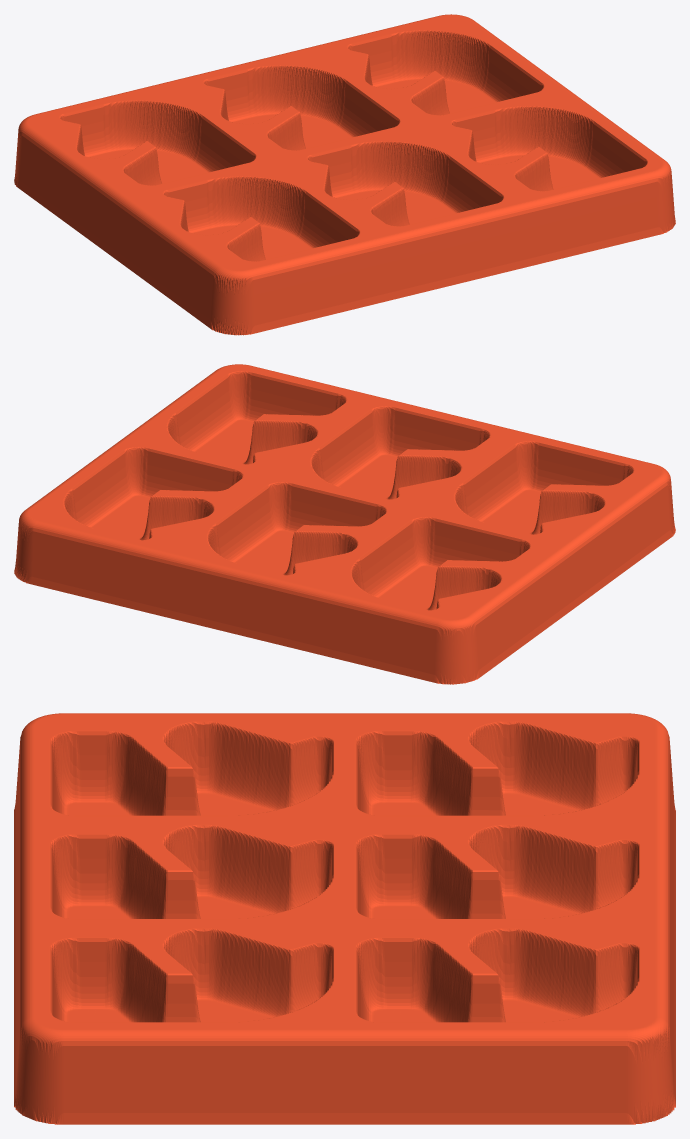
The model's file is mold.glb.
The picture shows the model from 3 angles, top to bottom: view 1: azimuth 30°, elevation 25°; view 2: azimuth 150°, elevation 25°; view 3: azimuth 270°, elevation 25°; orthographic projection. The views are drawn at different scales.
Parts seen in each view (by area): view 1: geometry_0; view 2: geometry_0; view 3: geometry_0.
Boxes of the visible parts, <box> form: geometry_0: <box>14,14,675,335</box>; geometry_0: <box>14,364,675,684</box>; geometry_0: <box>14,713,675,1124</box>.
Size of the model in its own units: 0.1437 by 0.0175 by 0.1211.
